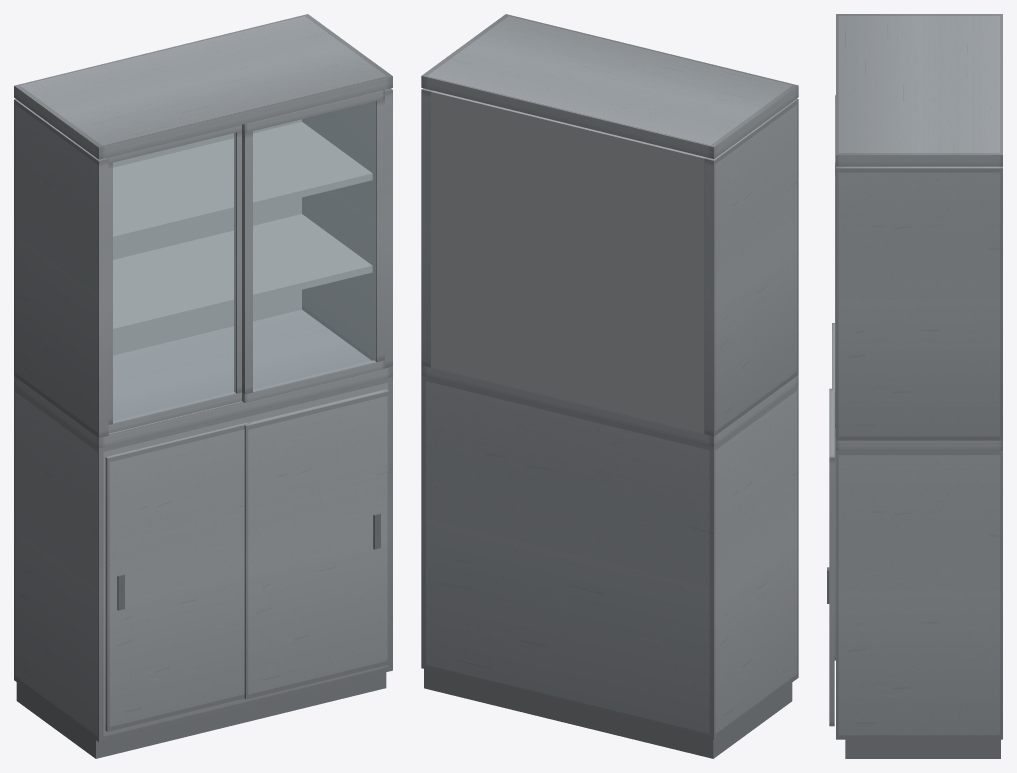
The model's file is cabinet_steel.glb.
The picture shows the model from 3 angles, left to right: view 1: azimuth 30°, elevation 25°; view 2: azimuth 150°, elevation 25°; view 3: azimuth 270°, elevation 25°; orthographic projection.
Visible parts, largest first — view 1: cabinet_steel; view 2: cabinet_steel; view 3: cabinet_steel.
Boxes of the visible parts, bbox=[...] form: cabinet_steel: bbox=[14, 14, 392, 758]; cabinet_steel: bbox=[421, 14, 798, 758]; cabinet_steel: bbox=[827, 14, 1002, 758].
Size of the model in its own units: 0.9 by 1.8 by 0.474.
5 materials, 1 textured.
